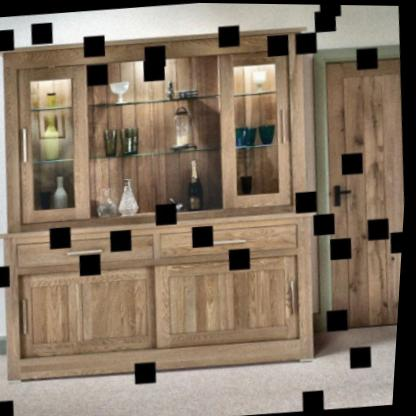Cupboard: (0, 25, 334, 383)
